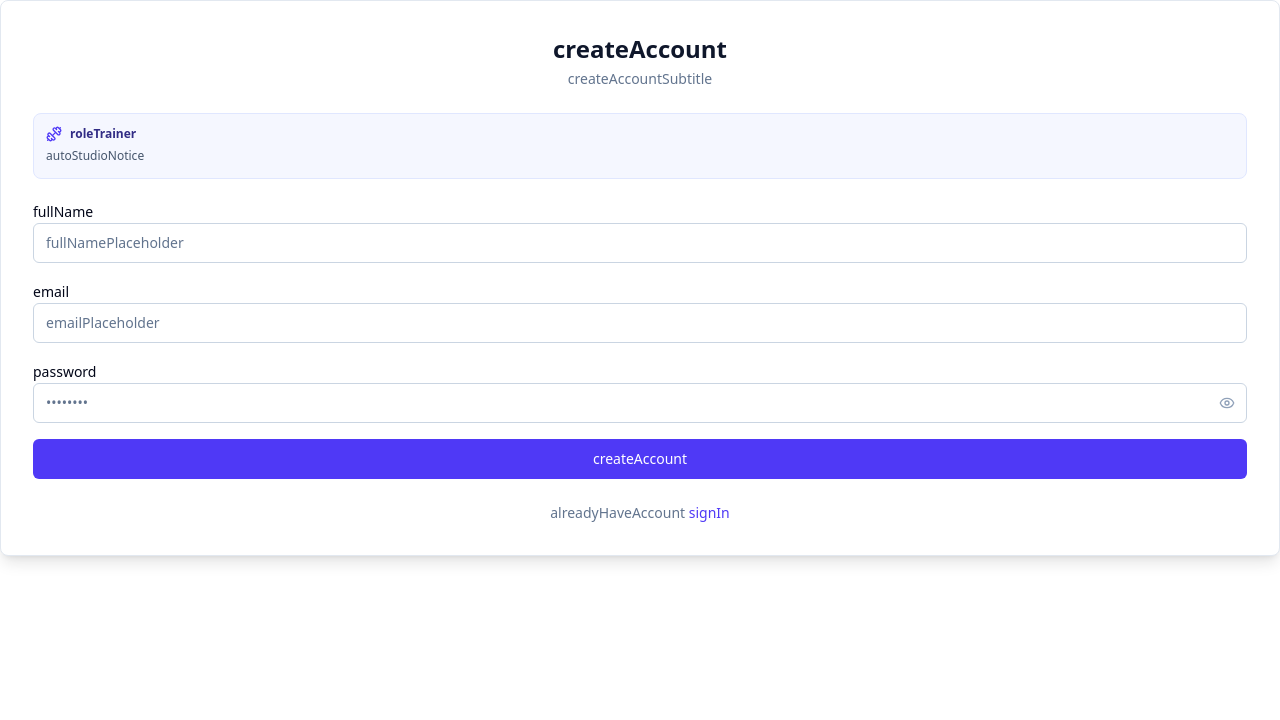
Test: SignUp › displays live studio preview when name is typed
This screenshot has width=1280, height=720.
Type "Rodrigo Silva" into the field labelled "fullName" at (640, 242), box [33,222,1247,262]
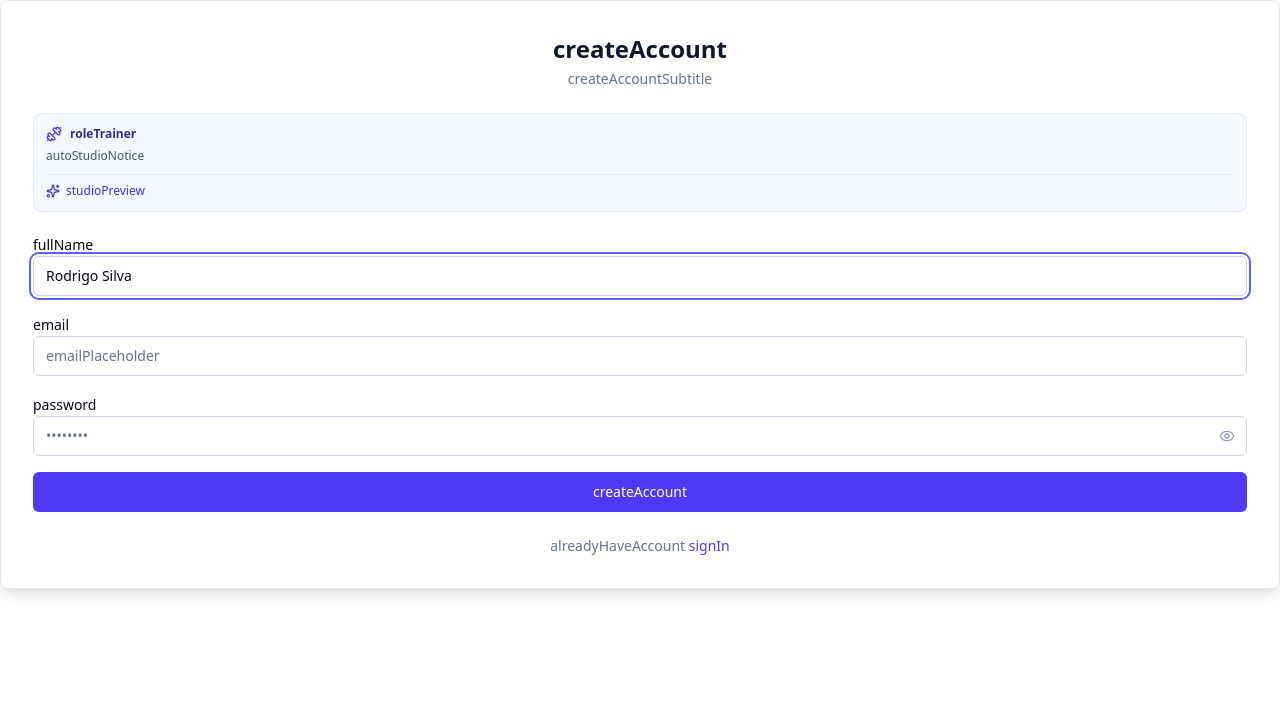
Expected: the text "studioPreview" is shown, [66,182,145,198]
